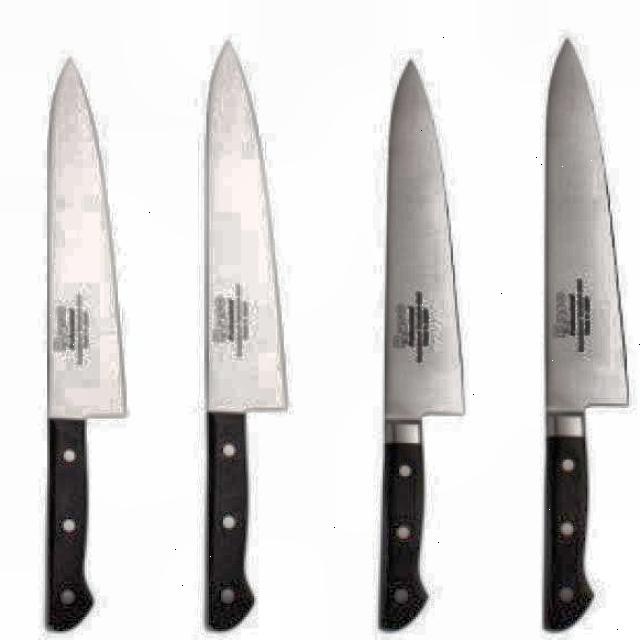knife: (537, 30, 632, 639), (195, 29, 290, 636), (370, 51, 469, 631), (38, 54, 130, 640)
